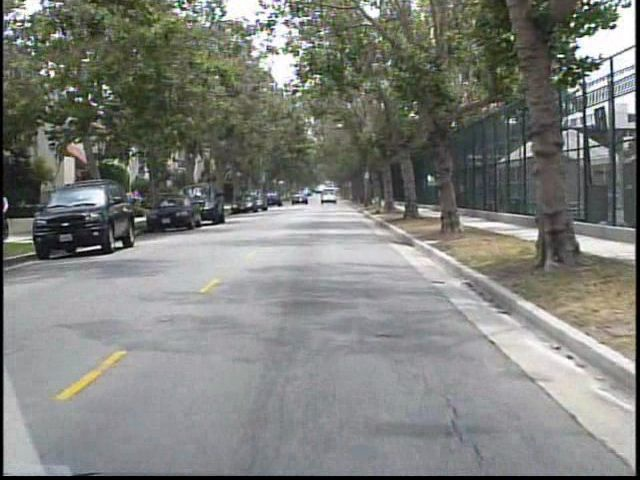person: (3, 185, 17, 216)
